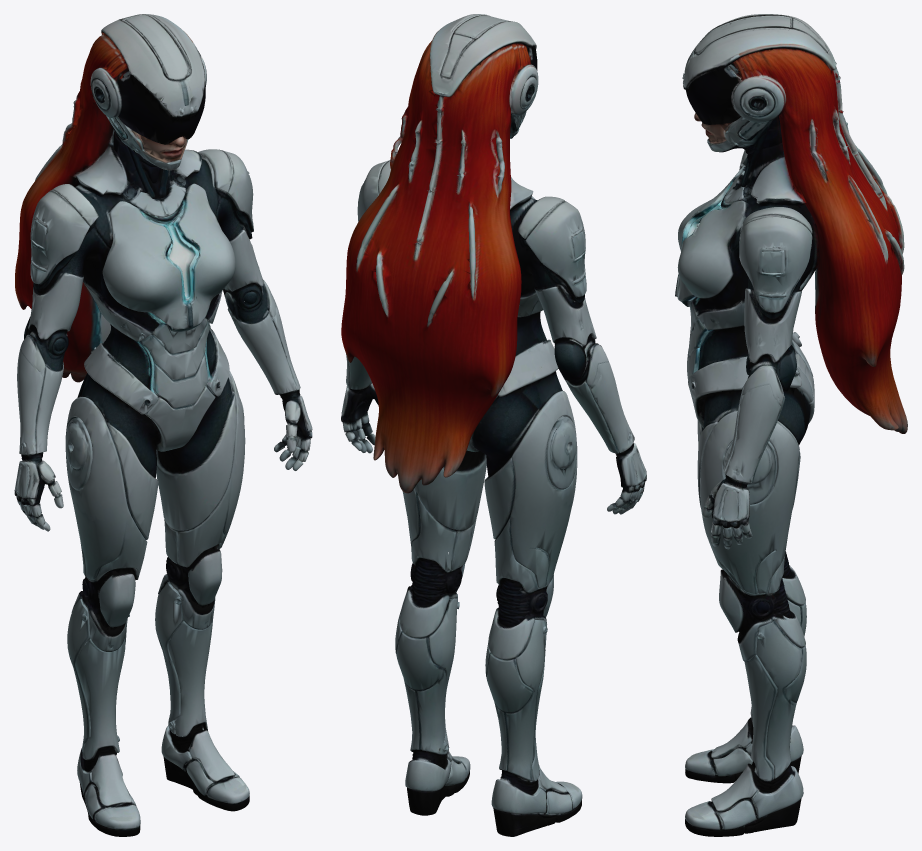
The model's file is cyborg.glb.
3 renders of one model, left to right at view 1: azimuth 30°, elevation 25°; view 2: azimuth 150°, elevation 25°; view 3: azimuth 270°, elevation 25°, orthographic. The views are drawn at different scales.
Parts seen in each view (by area): view 1: tripo_node_410035ab-2aba-4c2f-8494-e1e1d920683b; view 2: tripo_node_410035ab-2aba-4c2f-8494-e1e1d920683b; view 3: tripo_node_410035ab-2aba-4c2f-8494-e1e1d920683b.
Boxes of the visible parts, x1,y1,x2,y2 form: tripo_node_410035ab-2aba-4c2f-8494-e1e1d920683b: (14, 14, 312, 836); tripo_node_410035ab-2aba-4c2f-8494-e1e1d920683b: (341, 14, 646, 836); tripo_node_410035ab-2aba-4c2f-8494-e1e1d920683b: (675, 14, 907, 836).
Bounding box in the file's own units: 0.3825 × 0.9791 × 0.2645.
Materials: 1 (1 with a texture image).
